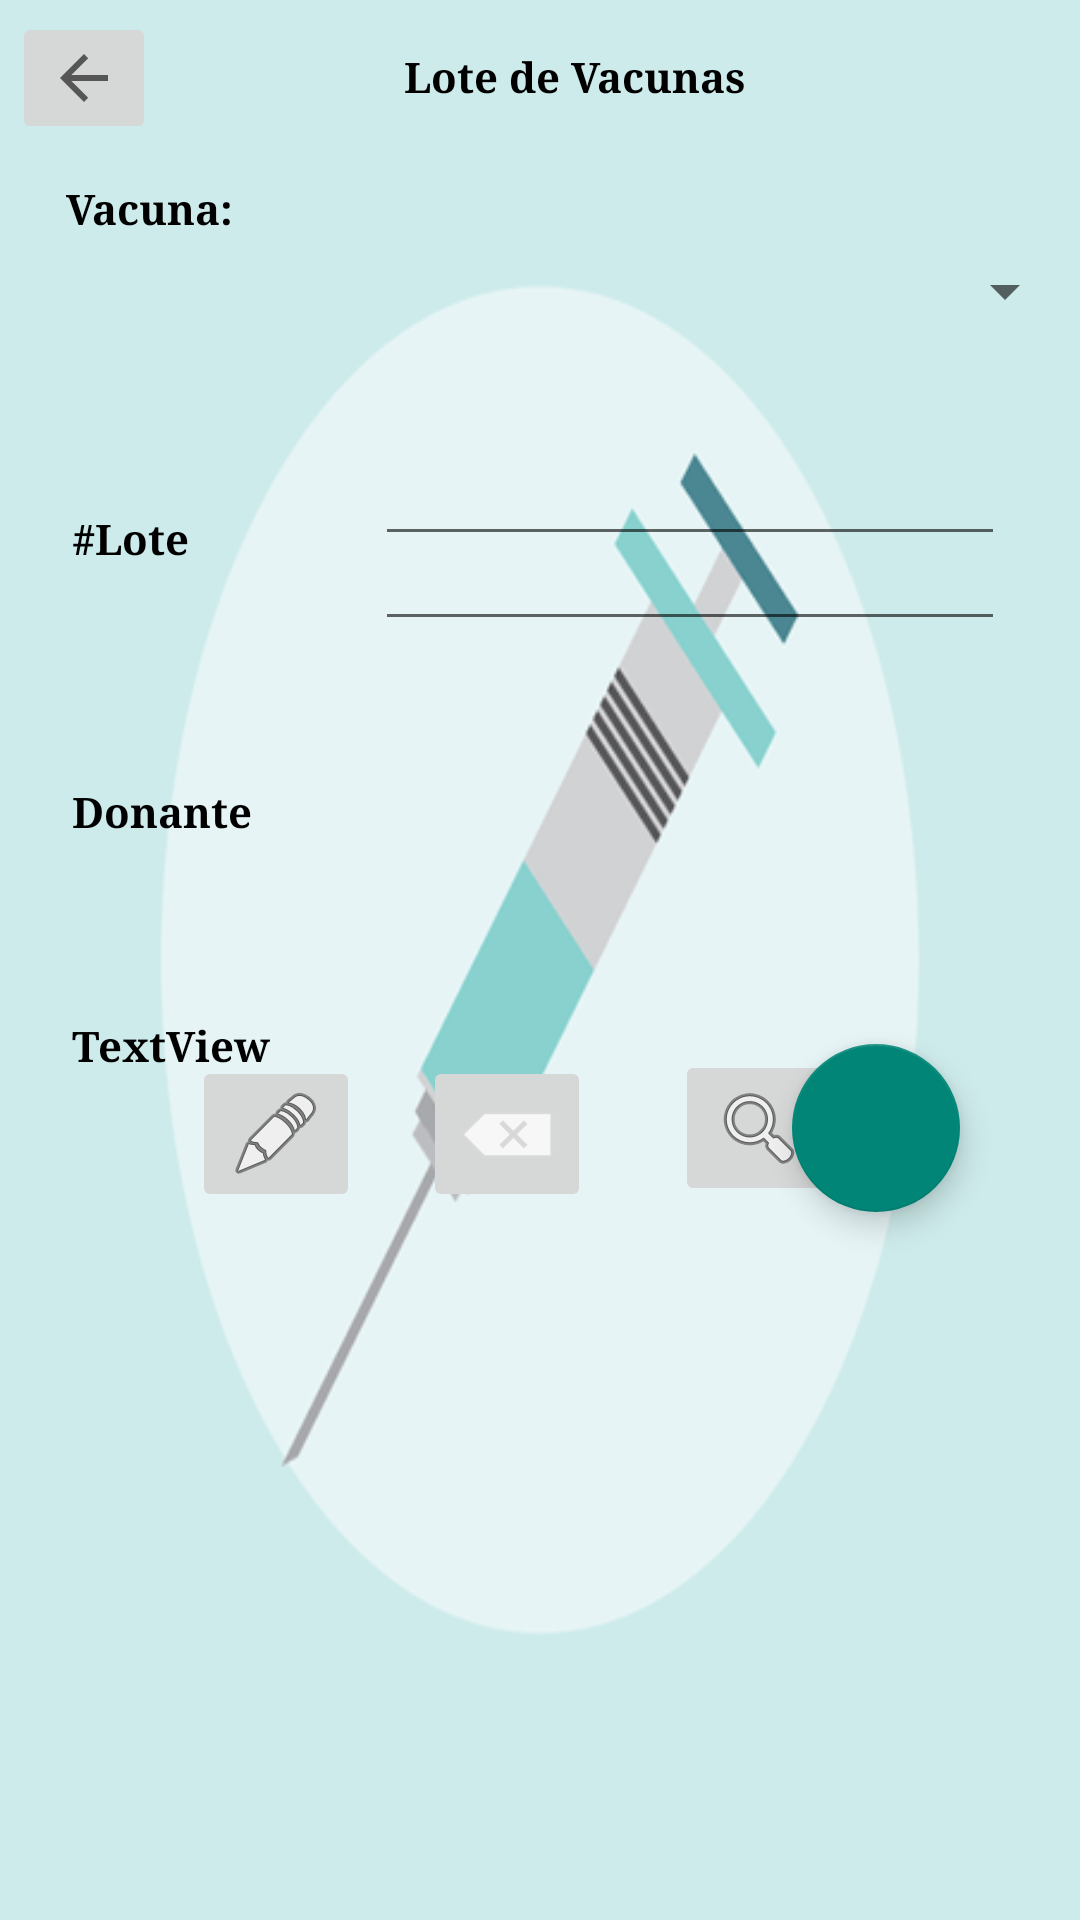

Named icons in this screenshot (1080w x 1920h) and their centers, point (x, y):
delete: point (501, 1129)
edit: point (276, 1134)
